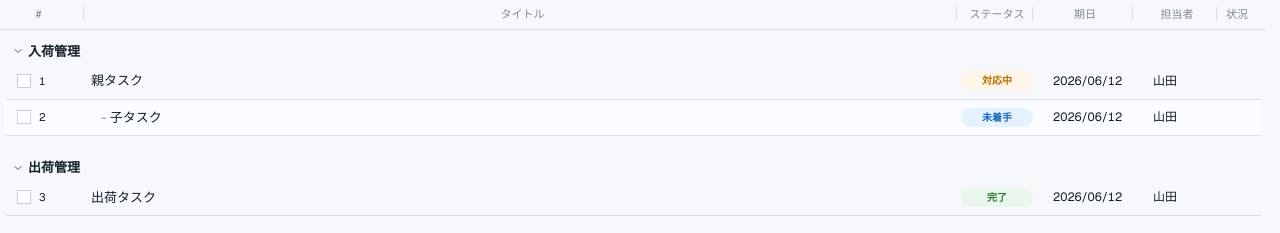
Test: TaskTree — グループ折り畳み（rete-desk-0081 アコーディオン） › 折り畳んだ見出しは aria-expanded=false / is-collapsed を持つこと
Click the button "入荷管理" at point(54, 51), box [4,40,1261,63]
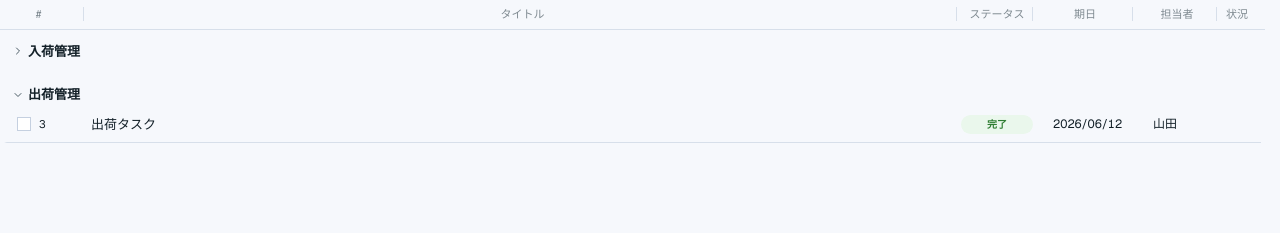
expect the button "入荷管理" is collapsed: met, box [4,40,1261,63]
